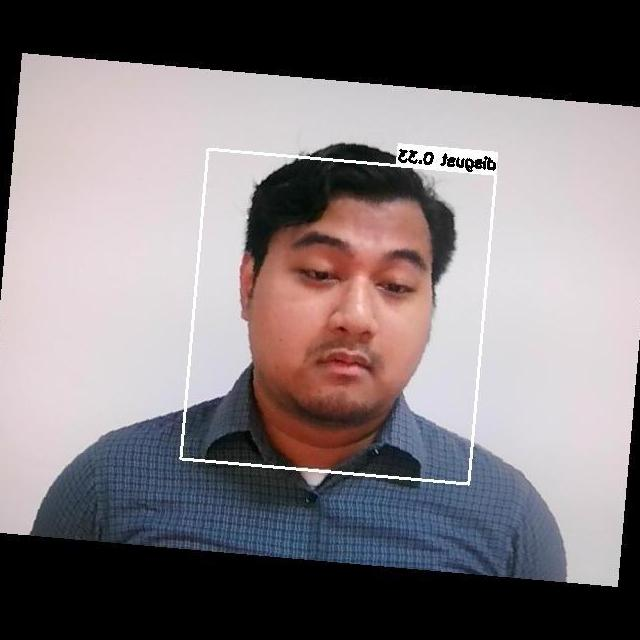Fear: (243, 209, 438, 424)
